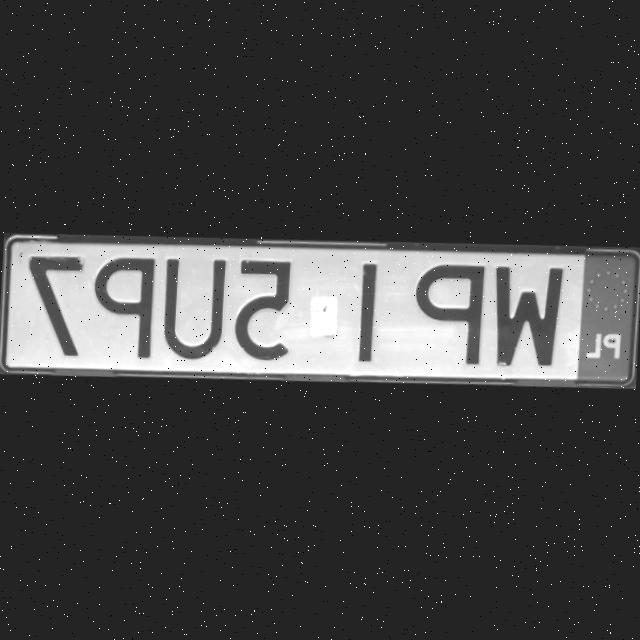license-plates: (0, 236, 640, 386)
